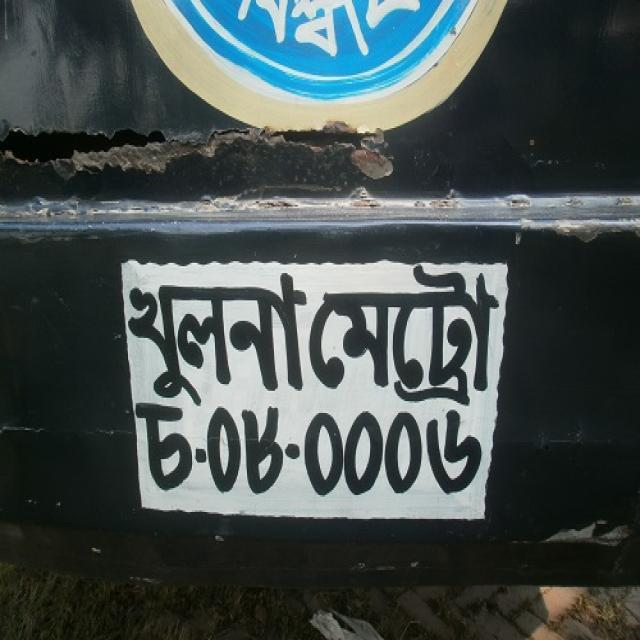numberplate: (120, 256, 506, 520)
